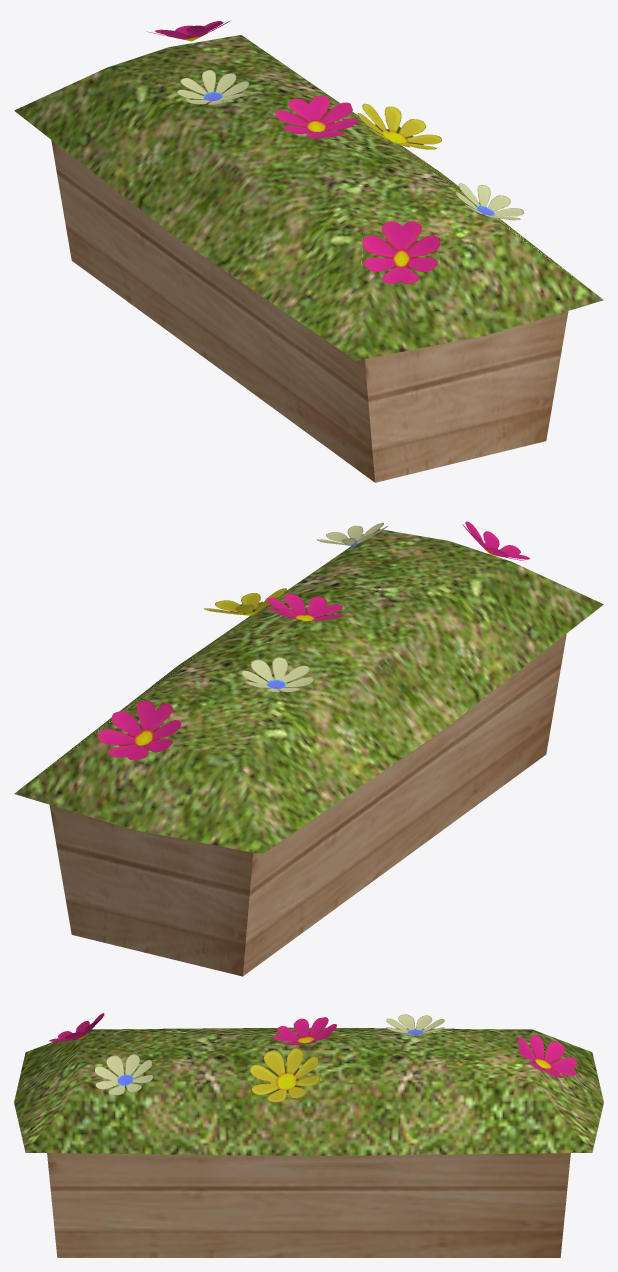
File: VEG0310035.fbx
The picture shows the model from 3 angles, top to bottom: view 1: azimuth 30°, elevation 25°; view 2: azimuth 150°, elevation 25°; view 3: azimuth 270°, elevation 25°; orthographic projection. The views are drawn at different scales.
Parts seen in each view (by area): view 1: smVEG0310035; view 2: smVEG0310035; view 3: smVEG0310035.
Boxes of the visible parts, bbox=[...] form: smVEG0310035: bbox=[14, 20, 603, 482]; smVEG0310035: bbox=[14, 521, 603, 976]; smVEG0310035: bbox=[14, 1013, 603, 1257].
Bounding box in the file's own units: 65.59 × 57.34 × 152.
Materials: 1 (1 with a texture image).
